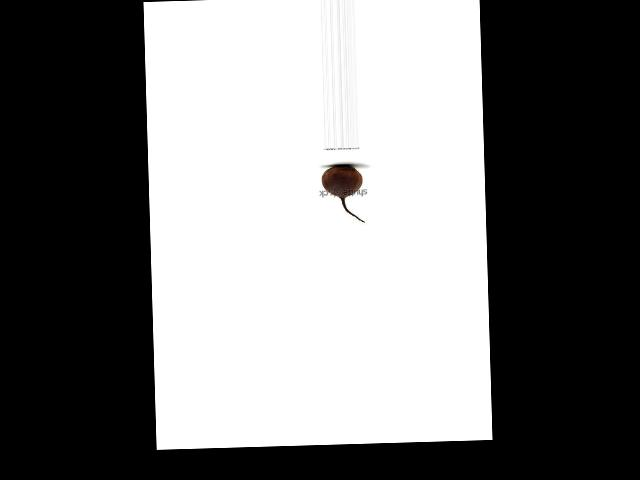beet: (320, 164, 364, 223)
